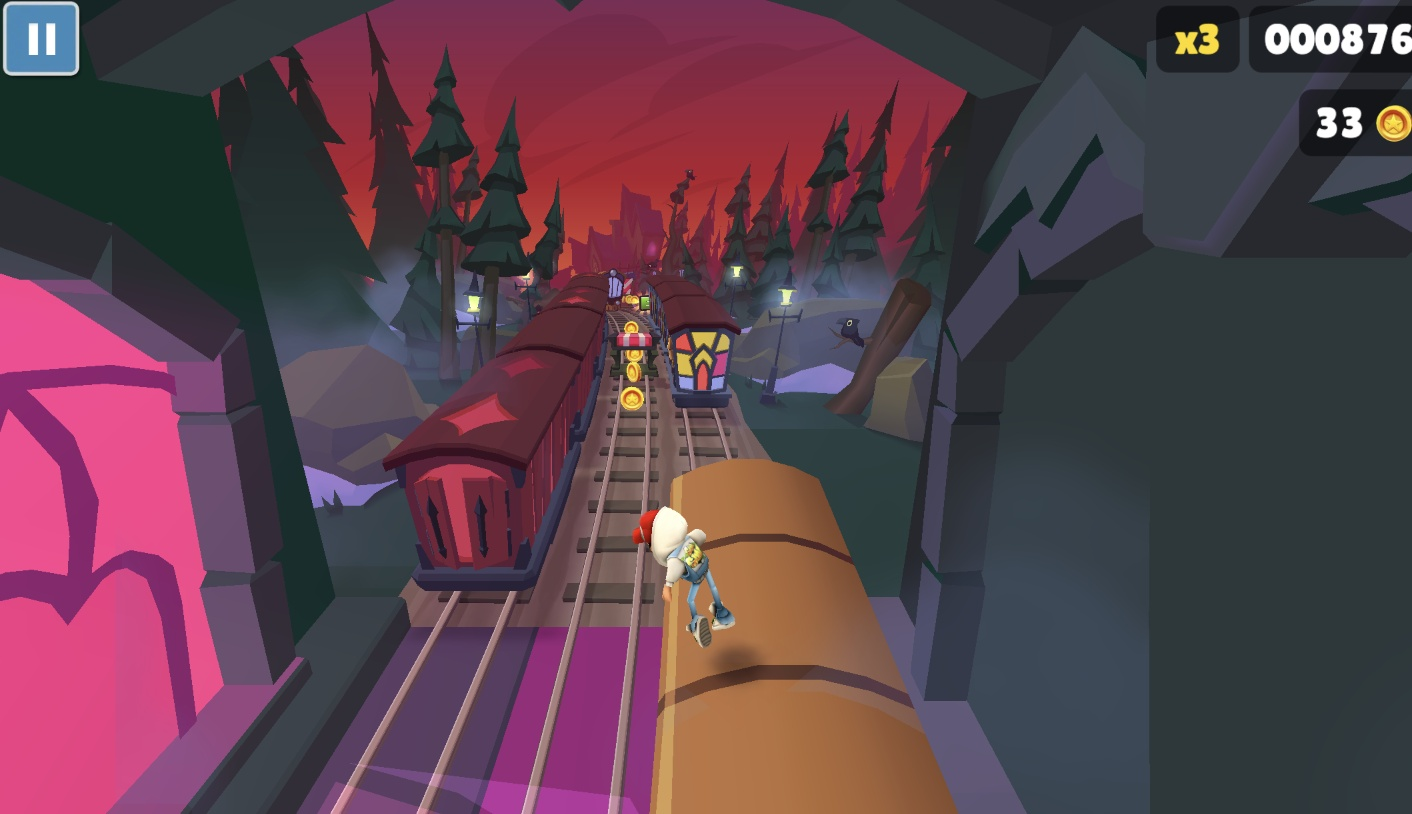ground_barrier: (616, 331, 663, 376)
overhead_barrier: (622, 272, 636, 296)
train: (669, 468, 984, 814), (392, 274, 616, 602), (648, 275, 752, 410), (608, 268, 634, 302)
